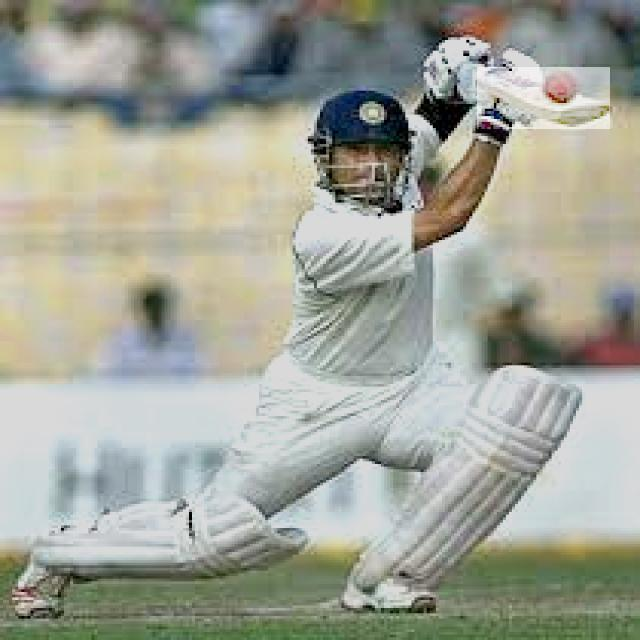bat: (476, 63, 609, 128)
toe: (550, 104, 611, 127)
